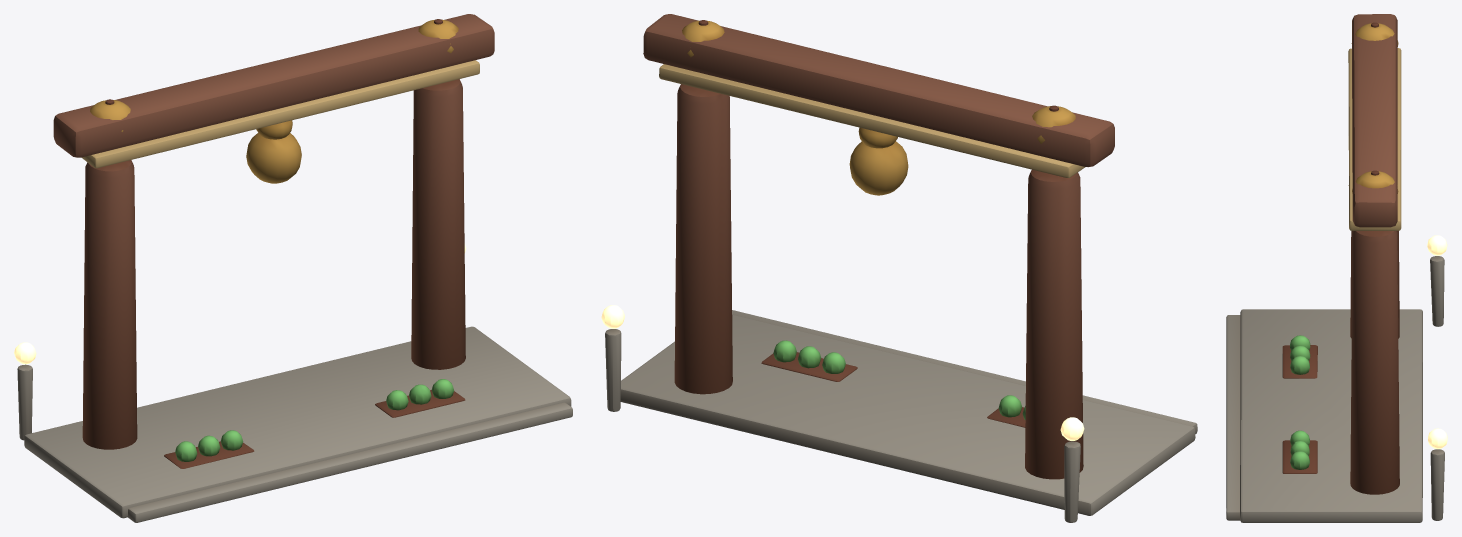
3 views of the same model, side by side, from view 1: azimuth 30°, elevation 25°; view 2: azimuth 150°, elevation 25°; view 3: azimuth 270°, elevation 25° (orthographic). The views are drawn at different scales.
Parts seen in each view (by area): view 1: gate_d9b71995; view 2: gate_d9b71995; view 3: gate_d9b71995.
Part boxes in pixels (x1,y1,x2,y2): gate_d9b71995: (14,14,572,522); gate_d9b71995: (601,14,1197,522); gate_d9b71995: (1226,14,1447,522).
Bounding box in the file's own units: 5.52 × 4.12 × 2.55.
